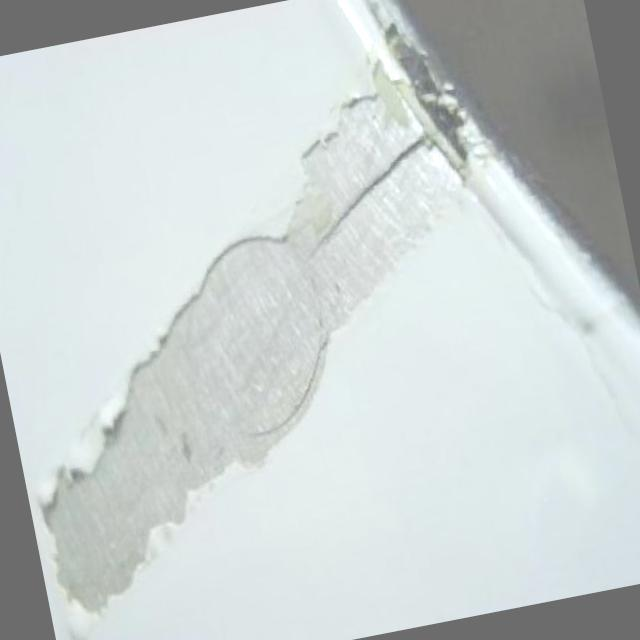crack: (302, 198, 372, 260), (352, 144, 428, 199)
